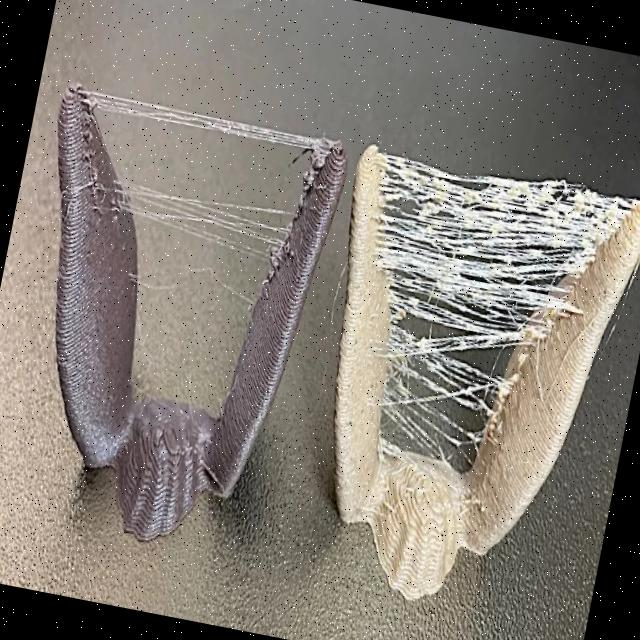stringing: (376, 147, 632, 464), (80, 88, 331, 197), (115, 179, 295, 276)
